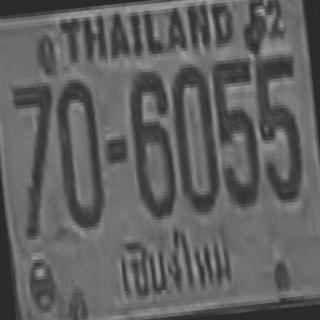N00: (52, 76, 106, 228), (167, 60, 220, 212)
N05: (208, 54, 262, 206), (252, 50, 306, 201)
N06: (125, 66, 177, 218)
N07: (8, 78, 64, 237)
P11: (110, 227, 238, 306)
